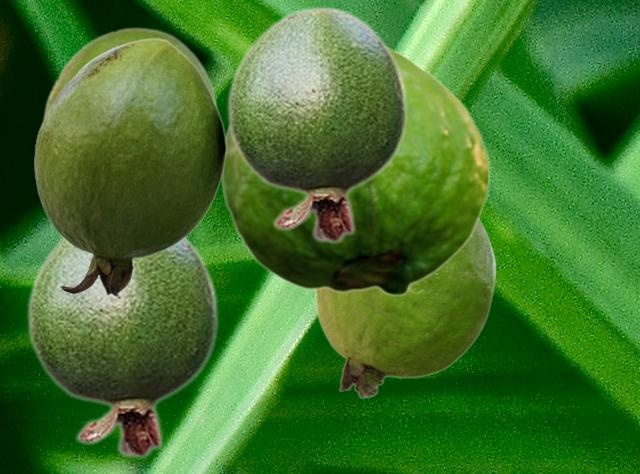guava: (220, 44, 489, 296), (34, 38, 226, 296), (226, 5, 408, 244), (26, 235, 219, 459), (314, 220, 495, 398), (42, 26, 217, 119)
